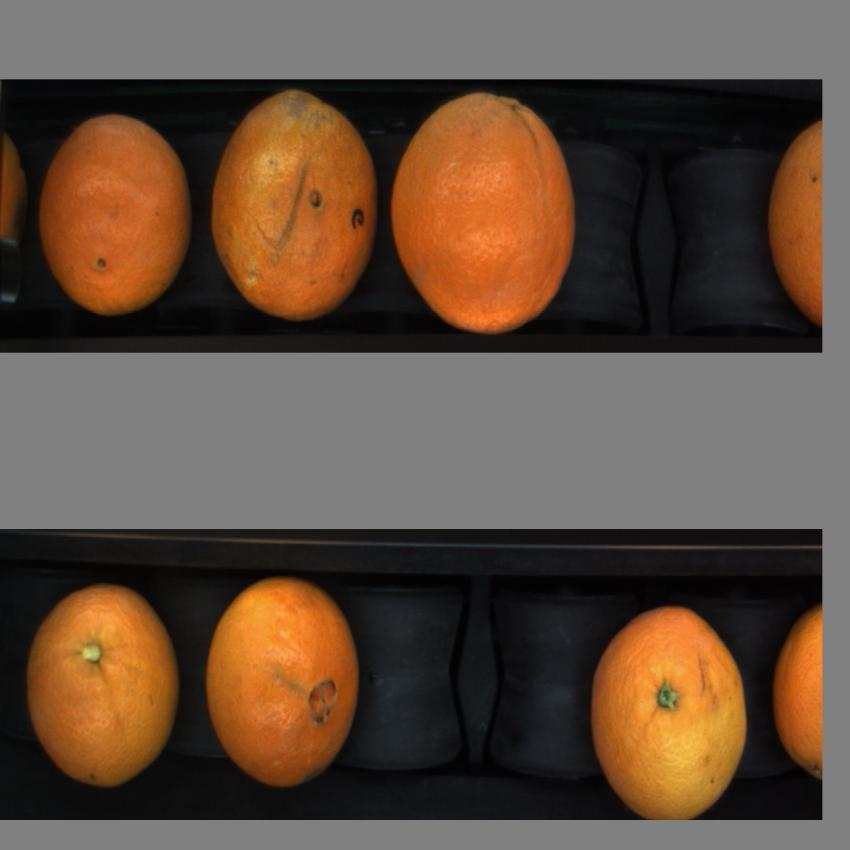Buen estado: (389, 87, 585, 346), (575, 591, 759, 820), (198, 564, 372, 800), (17, 572, 187, 795), (34, 102, 195, 330), (762, 112, 822, 335), (767, 588, 824, 789)
Mal estado: (205, 82, 381, 332)
